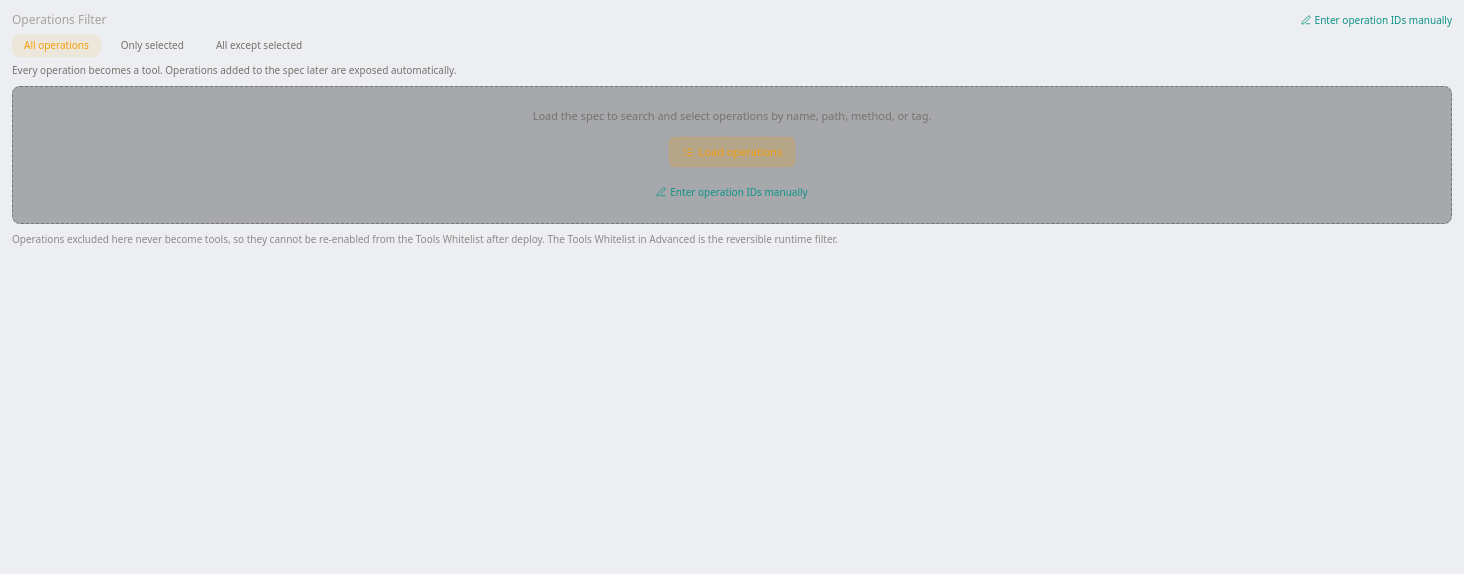
Test: OperationsPicker › advises against exposing a large spec wholesale
Click the button with aria-label "load operations from the openapi spec" at (732, 152), box [669,137,796,167]
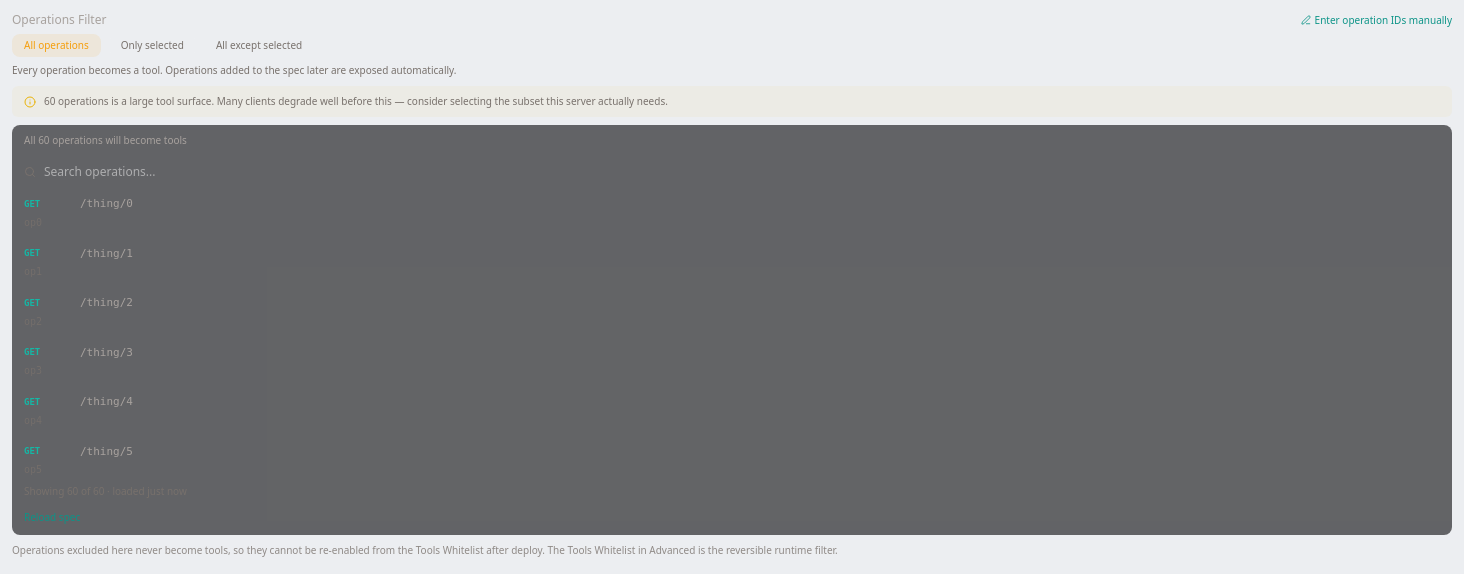
Now the text "60 operations is a large tool surface" is shown, box [44,94,668,109]
